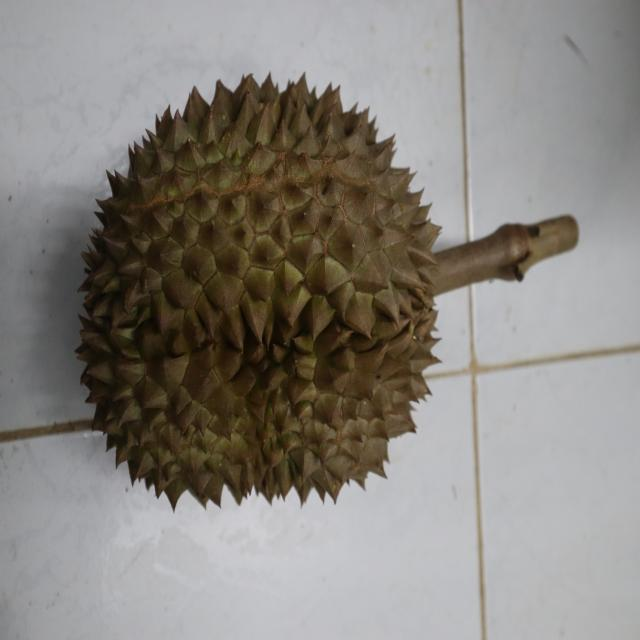mature: (78, 76, 443, 504)
